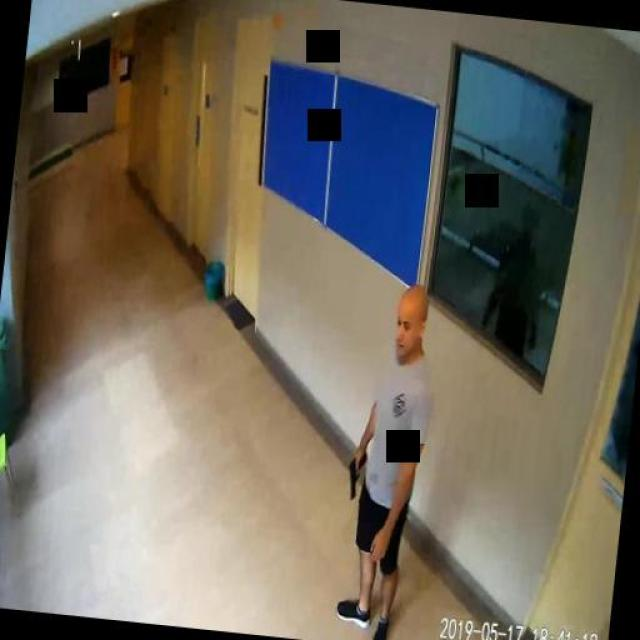gun: (344, 448, 366, 498)
